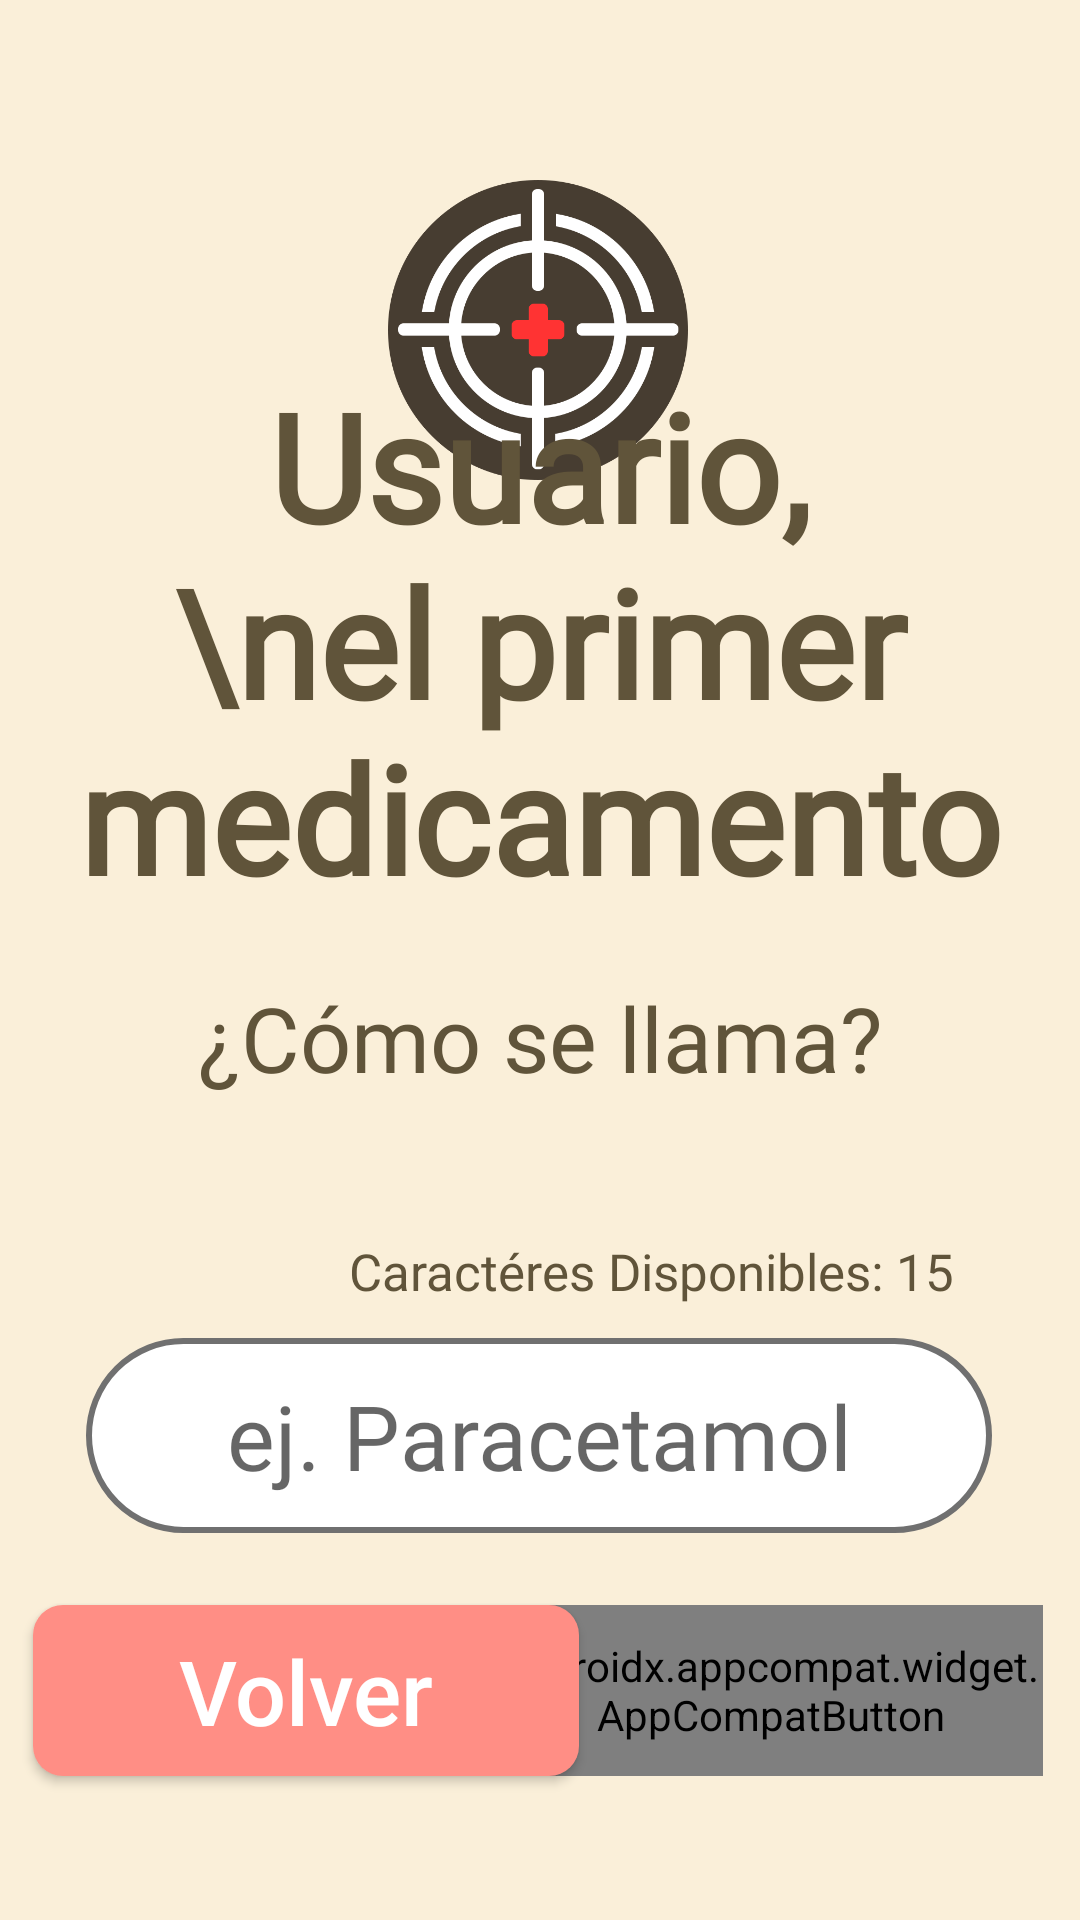

Screen size 1080 x 1920. Icon name, then its box in pixels as (x1, y1, x2, y2):
Icono Aplicación Mira Roja: (388, 180, 688, 480)
